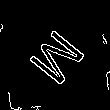M_SE: (21, 21, 89, 89)
